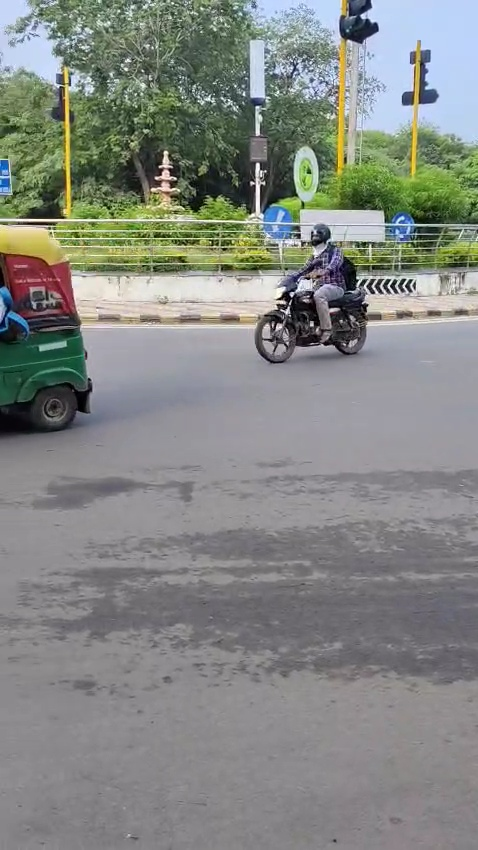BikeWithRider: (248, 218, 376, 368)
Helmet: (305, 220, 335, 251)
